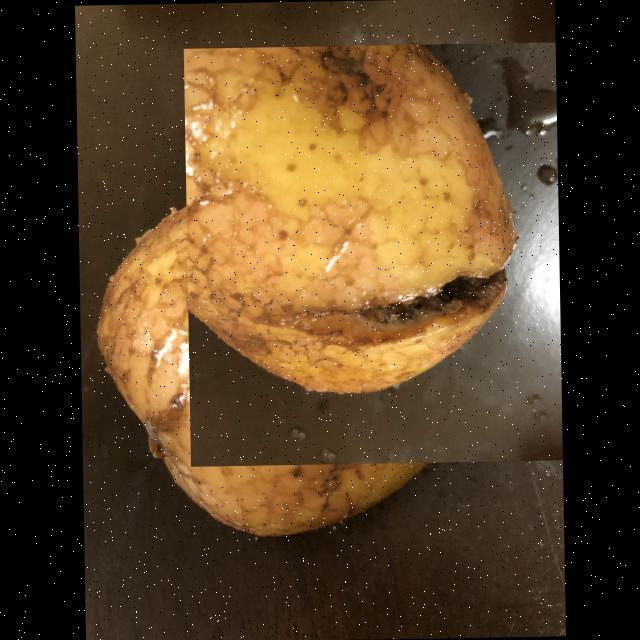Damaged potato: (183, 39, 624, 466)
